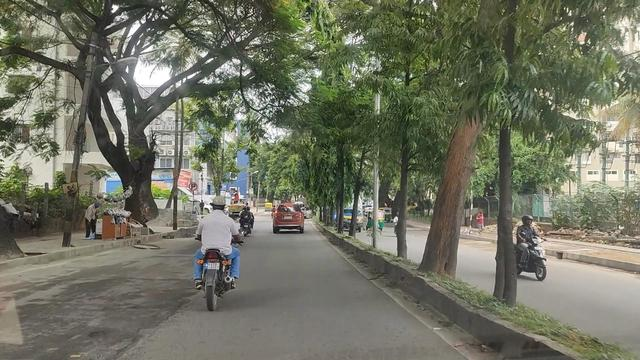LMV: (198, 197, 232, 298), (276, 199, 303, 237)
RoadDamages: (68, 324, 137, 360), (130, 238, 165, 256)
